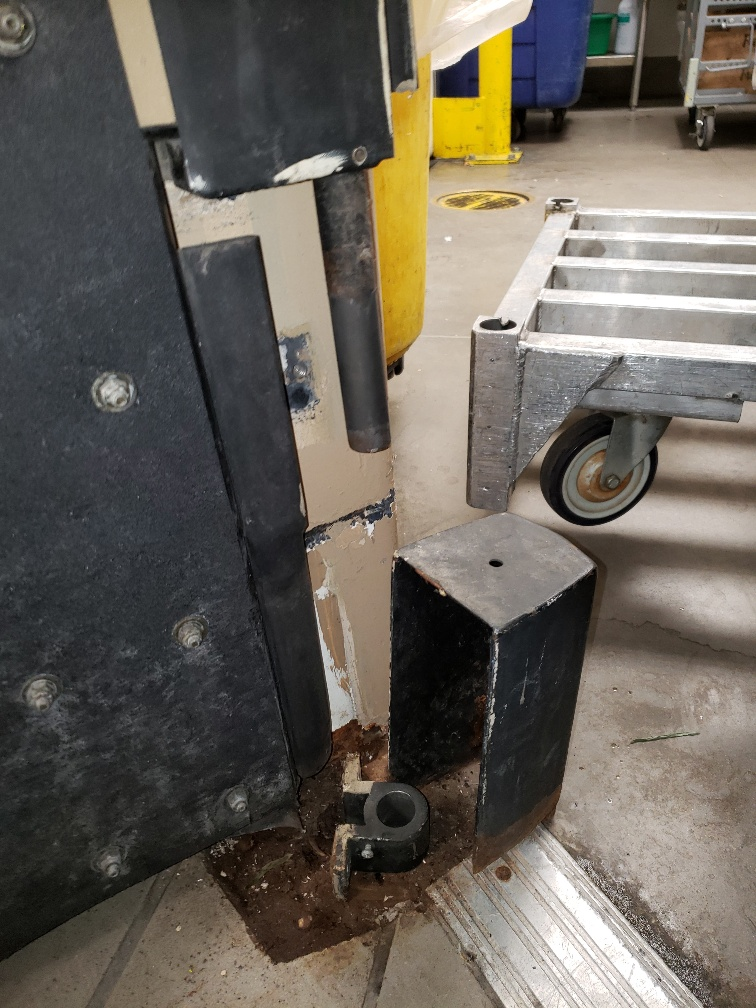rust: (247, 851, 327, 941)
